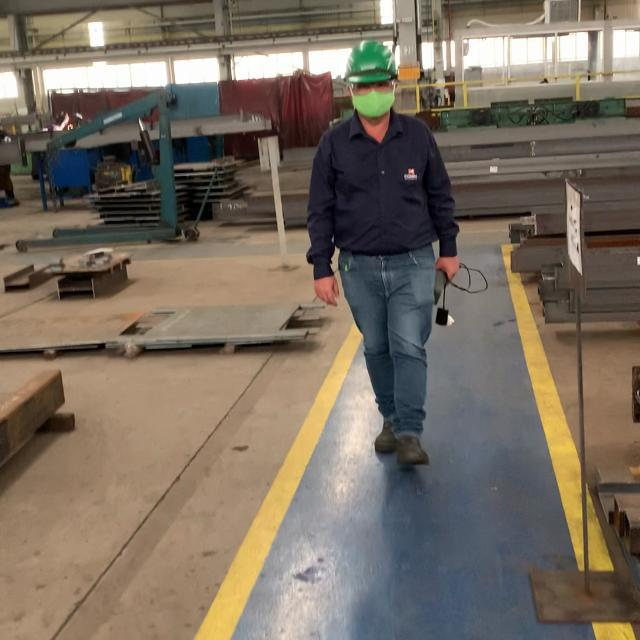glove: (342, 40, 397, 83)
helmet: (351, 92, 393, 115)
mask: (308, 41, 459, 468)
person: (351, 84, 397, 90)
safety-shoe: (392, 430, 431, 467), (373, 418, 397, 455)
